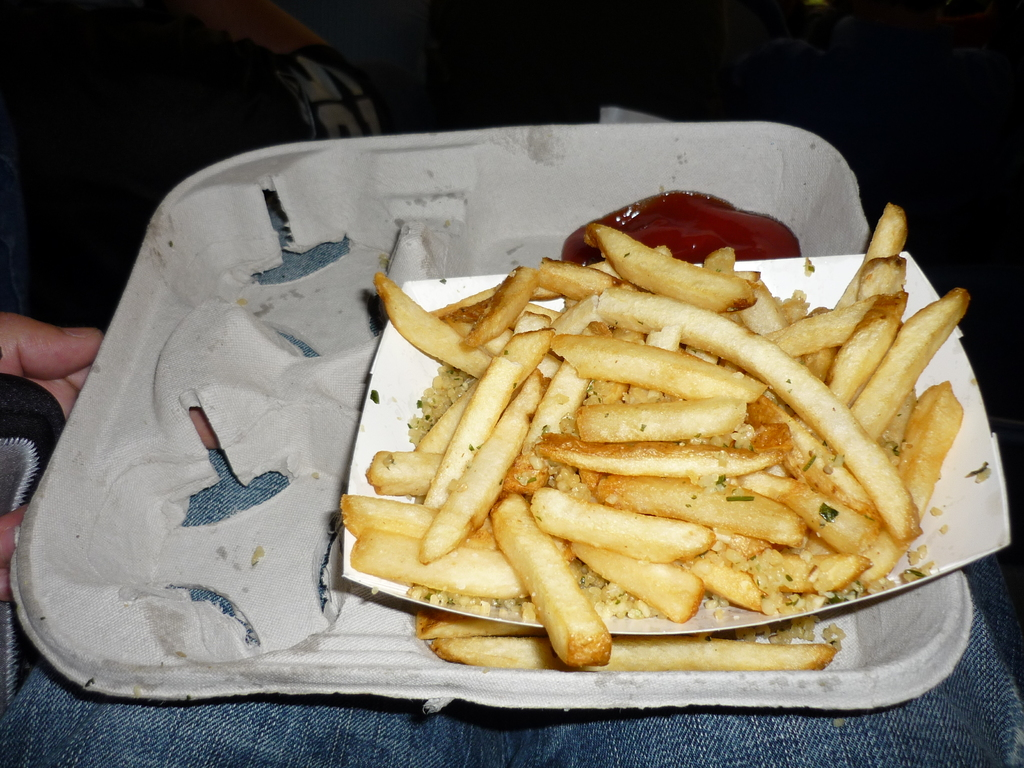French fries: (324, 193, 977, 676)
